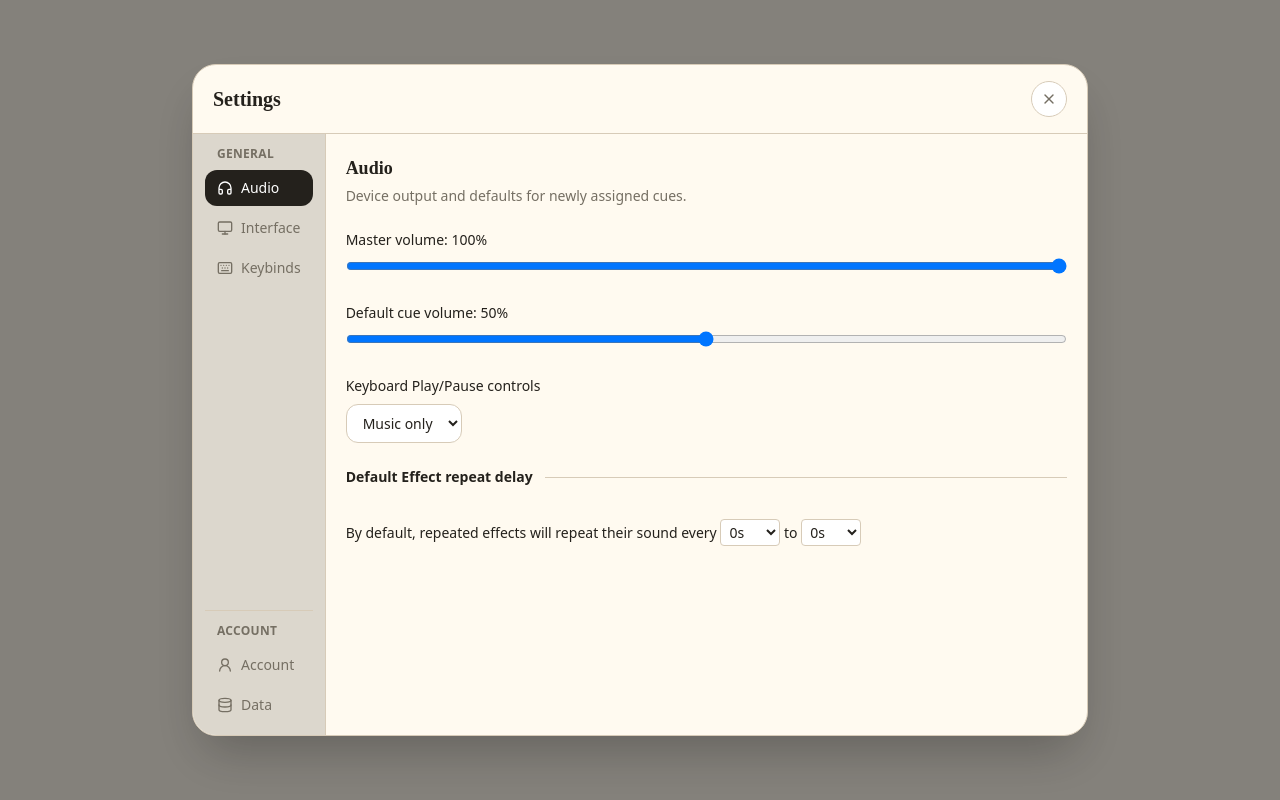
Scenario: SettingsModal local reset › reassigns single-letter shortcuts and documents combinations as read-only
The width and height of the screenshot is (1280, 800).
Click the tab "Keybinds" at (259, 268), box [205, 250, 313, 286]
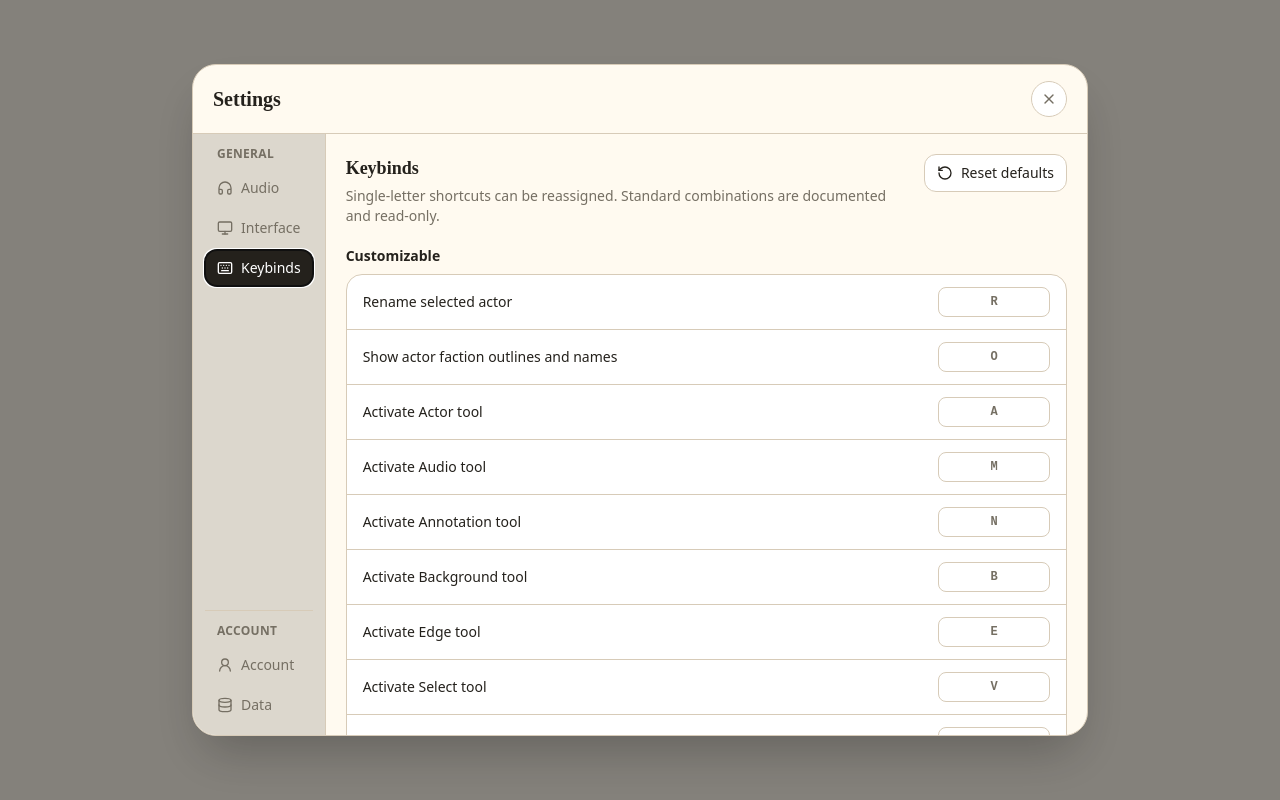
Expected: the button named "Change Show actor faction outlines and names keybind" reads "O", [938, 342, 1050, 372]
Click the button named "Change Activate Actor tool keybind" at (994, 412), box [938, 397, 1050, 427]
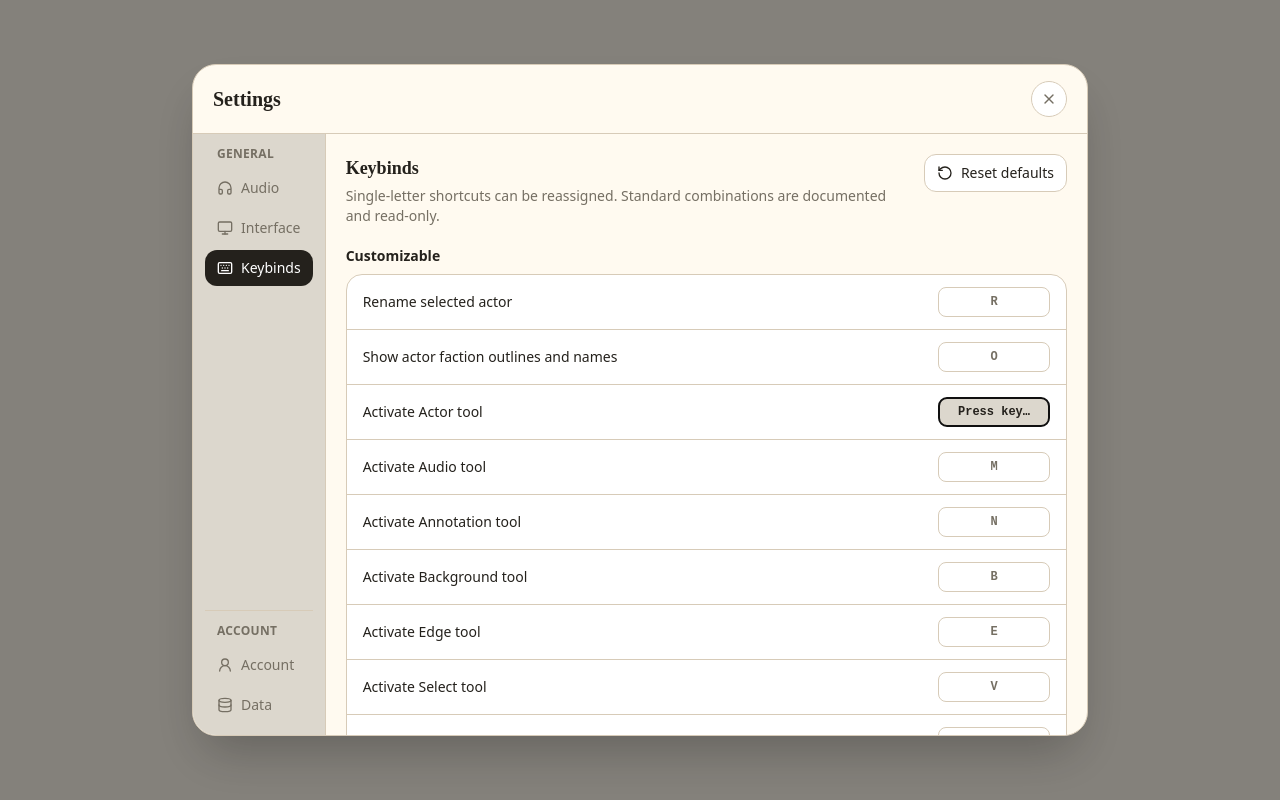
Press g in the button with aria-label "Change Activate Actor tool keybind", box [938, 397, 1050, 427]
(page scrolled)
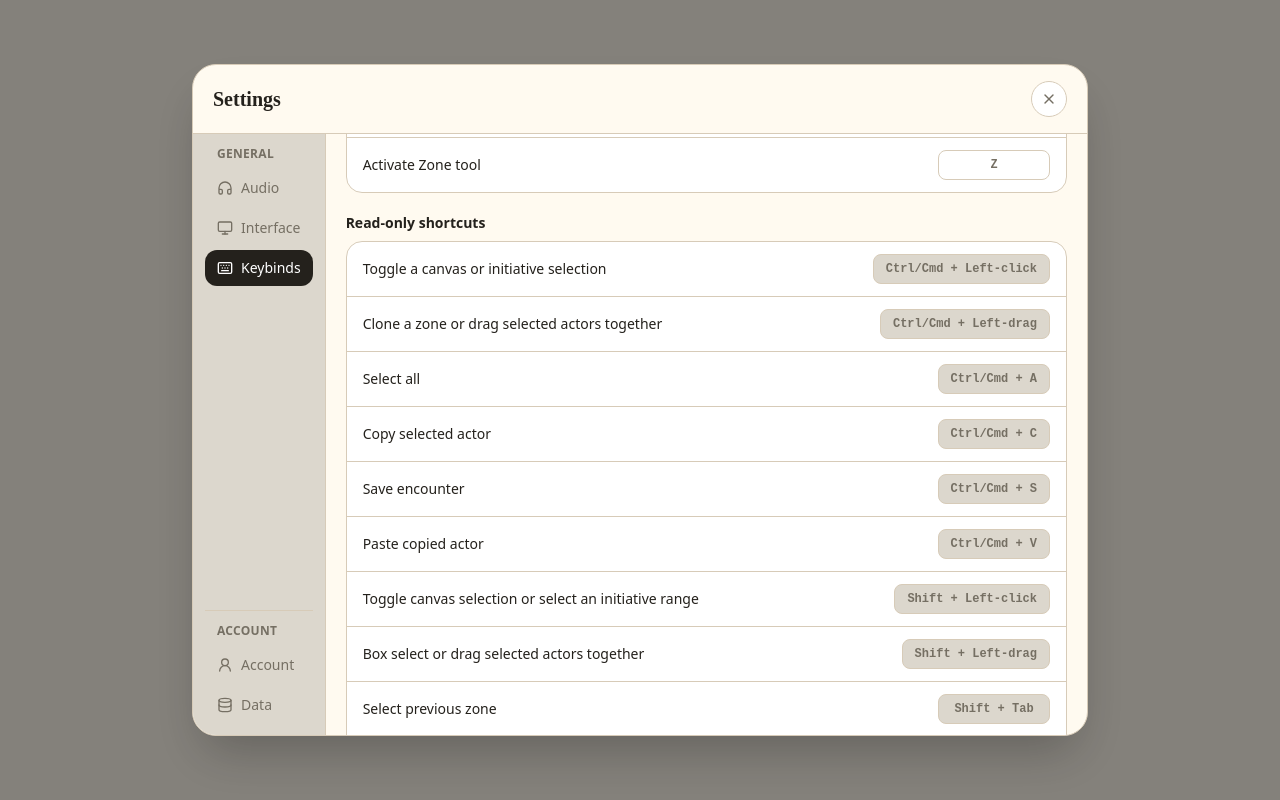
Expected: the text named "Copy selected actor keybind" reads "Ctrl/Cmd + C", [951, 427, 1037, 441]
